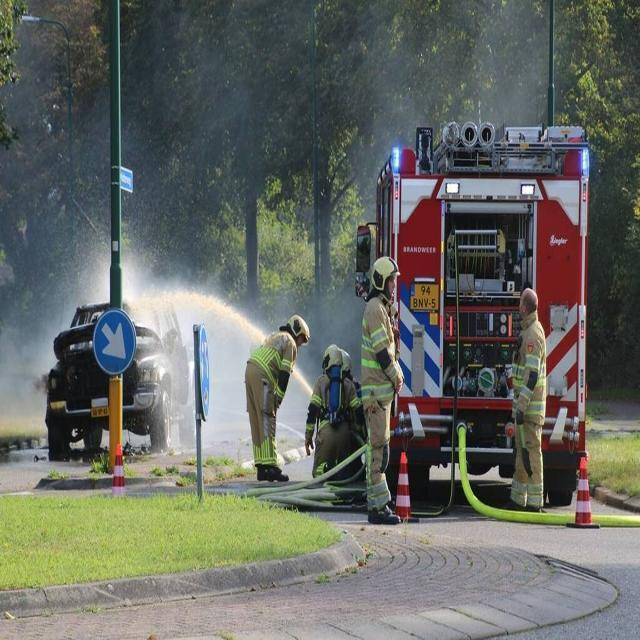Smoke: (32, 374, 49, 396)
